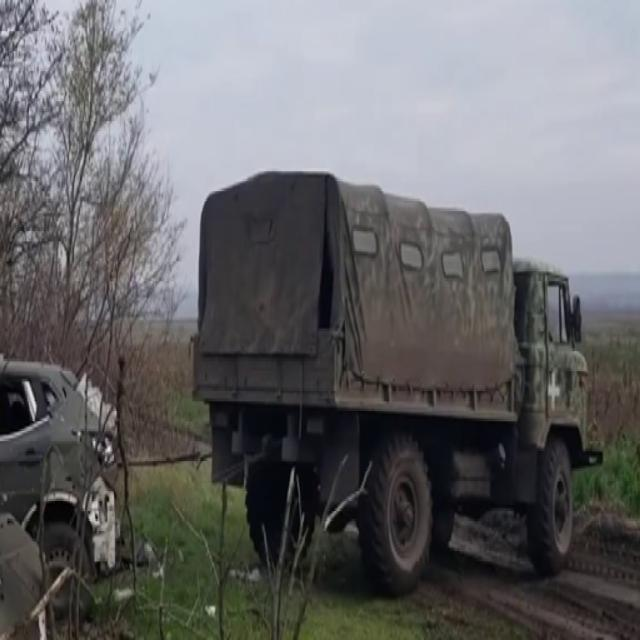CAR: (0, 345, 121, 632)
TRUCK: (192, 172, 594, 595)
